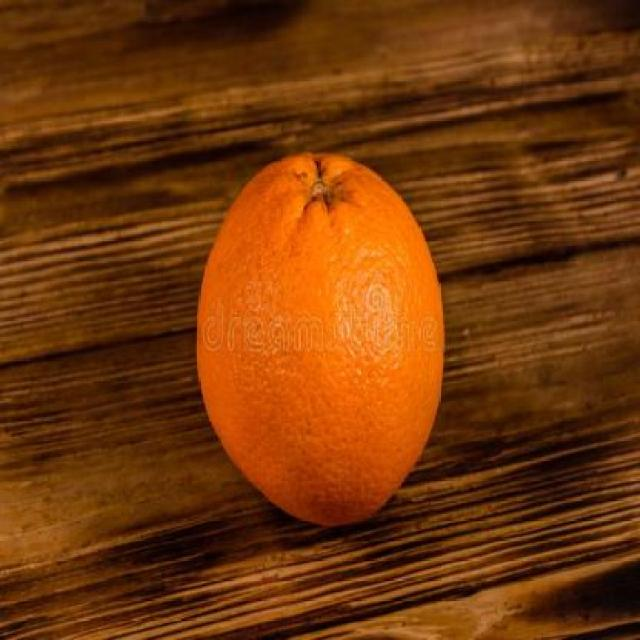Orange: (194, 148, 446, 528)
